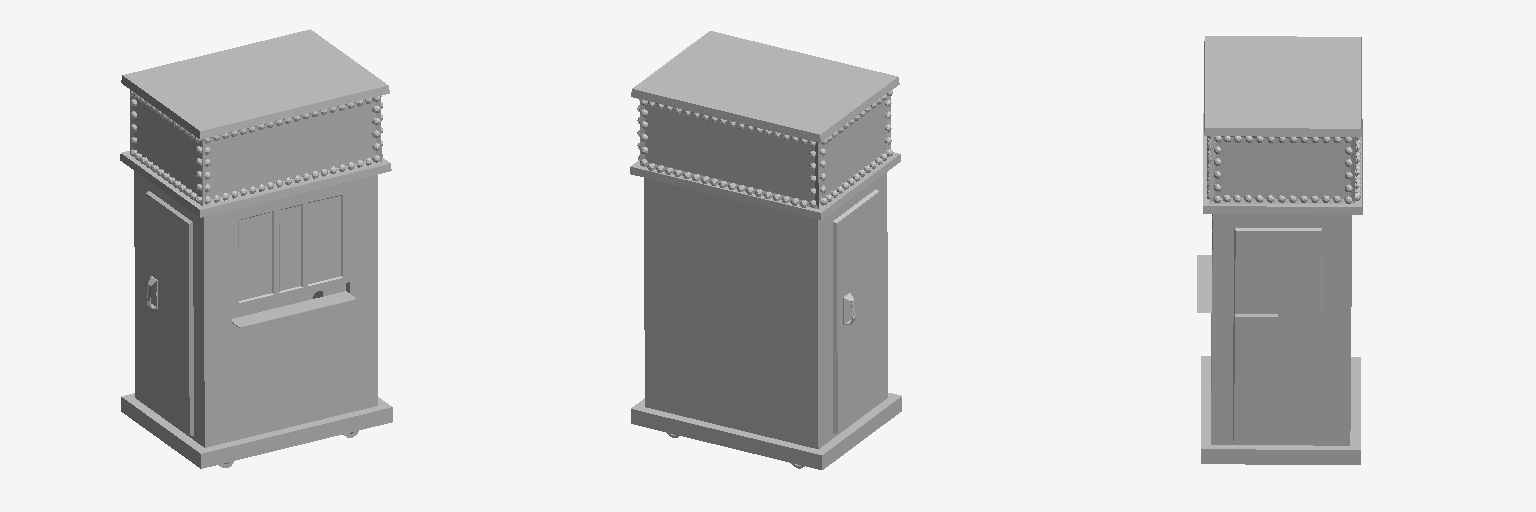
The model's file is CR_ticketboothbox.obj.
3 views of the same model, side by side, from view 1: azimuth 30°, elevation 25°; view 2: azimuth 150°, elevation 25°; view 3: azimuth 270°, elevation 25° (orthographic).
Parts seen in each view (by area): view 1: Object_2, Object_5, Object_4, Object_3; view 2: Object_2, Object_5, Object_3; view 3: Object_2, Object_5, Object_4, Object_3.
Boxes of the visible parts, x1,y1,x2,y2 form: Object_2: [120, 29, 391, 447]; Object_5: [121, 93, 392, 468]; Object_4: [239, 196, 340, 300]; Object_3: [130, 90, 382, 204]; Object_2: [630, 31, 900, 448]; Object_5: [631, 99, 901, 469]; Object_3: [637, 91, 892, 207]; Object_2: [1203, 36, 1362, 445]; Object_5: [1197, 136, 1360, 464]; Object_4: [1235, 231, 1277, 313]; Object_3: [1207, 136, 1360, 203].
Size of the model in its own units: 37.68 by 64.86 by 27.81.